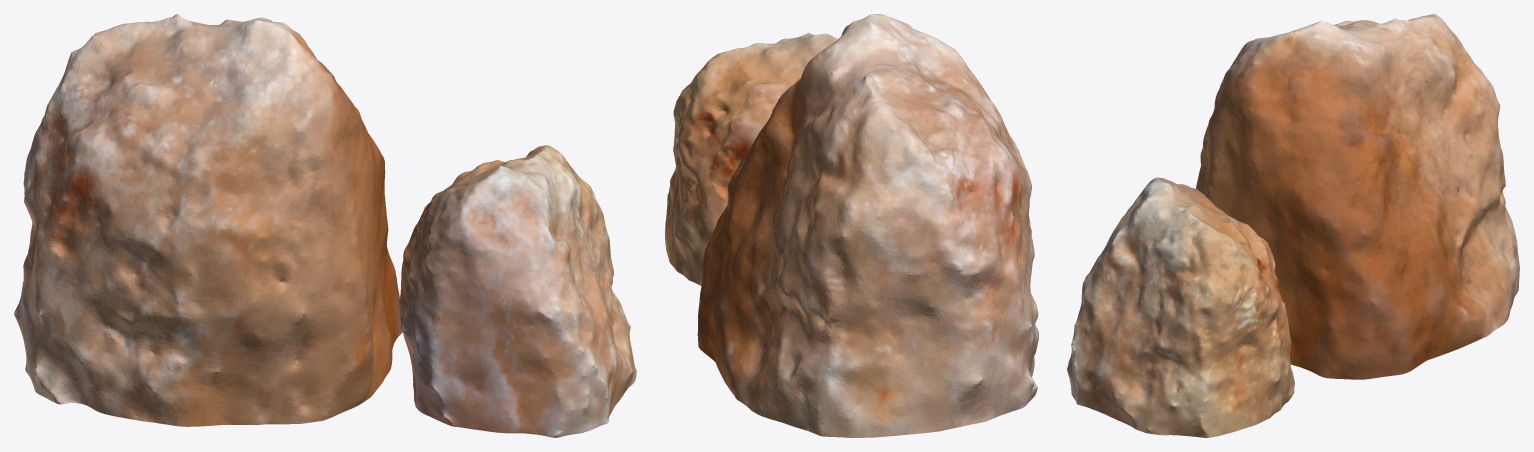
The model's file is Salzkristall.glb.
3 renders of one model, left to right at view 1: azimuth 30°, elevation 25°; view 2: azimuth 150°, elevation 25°; view 3: azimuth 270°, elevation 25°, orthographic. The views are drawn at different scales.
Parts seen in each view (by area): view 1: Scaniverse_2025_09_29_145519, Scaniverse_2025_09_29_144818; view 2: Scaniverse_2025_09_29_145519, Scaniverse_2025_09_29_144818; view 3: Scaniverse_2025_09_29_145519, Scaniverse_2025_09_29_144818.
Part boxes in pixels (x1,y1,x2,y2): Scaniverse_2025_09_29_145519: (14,14,402,426); Scaniverse_2025_09_29_144818: (399,145,636,437); Scaniverse_2025_09_29_145519: (697,14,1038,437); Scaniverse_2025_09_29_144818: (665,33,837,285); Scaniverse_2025_09_29_145519: (1195,14,1519,379); Scaniverse_2025_09_29_144818: (1067,177,1294,437).
Bounding box in the file's own units: 1.42 × 0.9624 × 1.33.
Materials: 2 (2 with a texture image).
